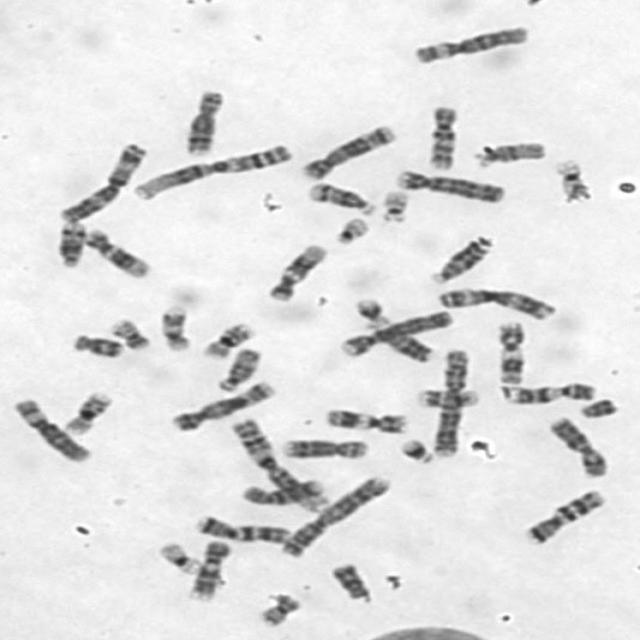A1: (127, 140, 296, 202), (227, 415, 329, 512)
A2: (276, 471, 394, 559), (429, 346, 472, 458)
A3: (55, 140, 150, 223), (432, 283, 558, 321)
B4: (335, 307, 456, 358), (390, 166, 507, 204)
B5: (296, 122, 400, 182), (167, 378, 277, 432)
C10: (422, 102, 461, 174), (239, 479, 325, 507)
C11: (320, 405, 410, 434), (492, 318, 530, 385)
C12: (263, 240, 329, 303), (81, 225, 152, 280)
C6: (9, 394, 92, 462), (407, 22, 531, 66)
C7: (519, 485, 609, 546), (191, 512, 292, 545)
C8: (180, 86, 227, 157), (277, 435, 370, 461)
C9: (185, 538, 232, 602), (498, 378, 598, 406)
D13: (426, 234, 494, 285), (372, 320, 435, 365)
D14: (305, 180, 376, 217), (53, 218, 86, 268)
D15: (212, 345, 263, 393), (470, 139, 548, 168)
E16: (59, 388, 114, 435), (198, 318, 257, 360)
E17: (156, 303, 193, 353), (413, 385, 480, 410)
E18: (326, 559, 374, 604), (67, 330, 125, 359)
F19: (552, 157, 596, 205), (155, 538, 202, 575)
F20: (255, 590, 302, 628), (106, 315, 152, 351)
G21: (350, 295, 392, 328), (396, 435, 436, 464)
G22: (330, 214, 372, 245), (377, 188, 412, 224)
X: (545, 414, 610, 479)
Y: (576, 395, 618, 419)
